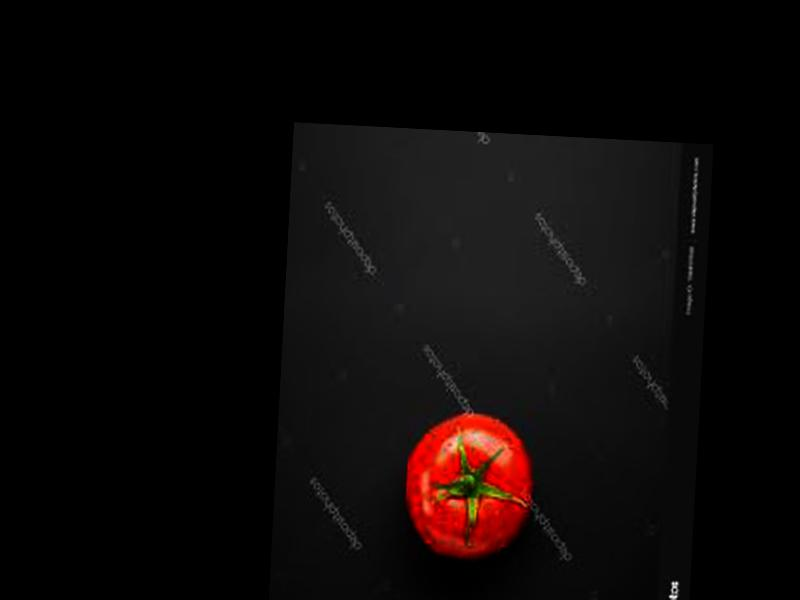Tomato: (400, 407, 537, 562)
